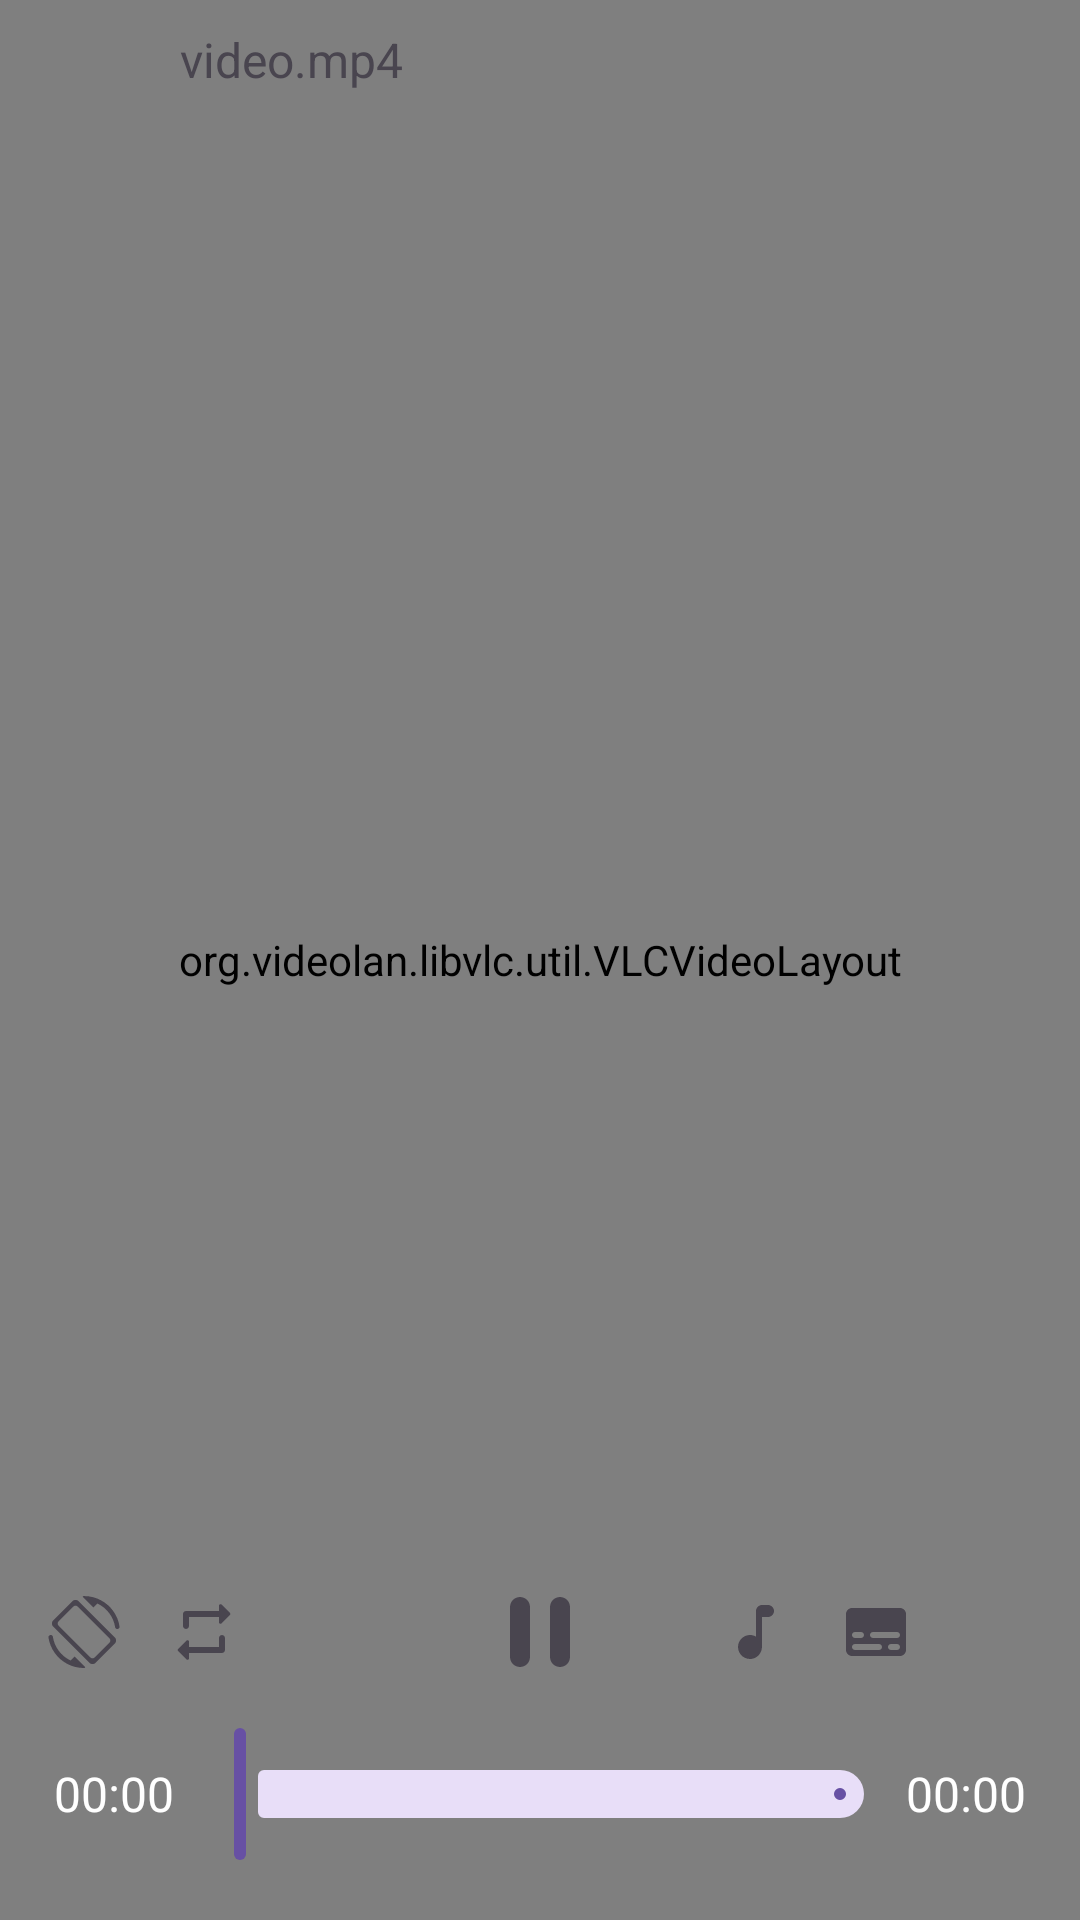

Locate icon controls on the screen. Image size 1080px x 1920px, boxes as {"x1": x1, "y1": y1, "x2": x2, "y2": y2}.
pause: {"x1": 510, "y1": 1597, "x2": 570, "y2": 1667}
repeat: {"x1": 178, "y1": 1604, "x2": 230, "y2": 1660}
screen rotation: {"x1": 48, "y1": 1596, "x2": 120, "y2": 1668}
subtitles: {"x1": 846, "y1": 1608, "x2": 906, "y2": 1656}
